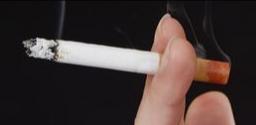Cigarette: (22, 37, 229, 83)
